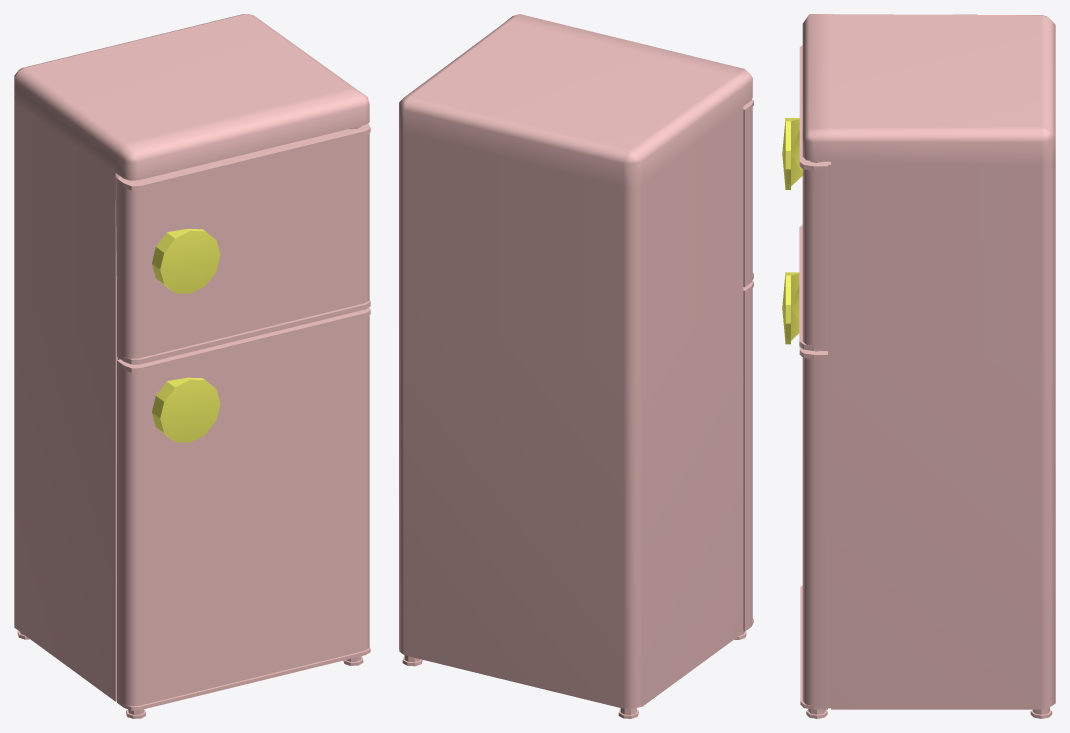
The model's file is MD_fridge_251231.fbx.
3 views of the same model, side by side, from view 1: azimuth 30°, elevation 25°; view 2: azimuth 150°, elevation 25°; view 3: azimuth 270°, elevation 25° (orthographic). The views are drawn at different scales.
Parts seen in each view (by area): view 1: polySurface20, pCylinder49, pCylinder50; view 2: polySurface20; view 3: polySurface20, pCylinder50, pCylinder49.
Boxes of the visible parts, bbox=[...] form: polySurface20: bbox=[14, 14, 370, 710]; pCylinder49: bbox=[152, 377, 220, 442]; pCylinder50: bbox=[152, 228, 220, 293]; polySurface20: bbox=[399, 14, 753, 708]; polySurface20: bbox=[799, 14, 1055, 709]; pCylinder50: bbox=[782, 118, 802, 189]; pCylinder49: bbox=[782, 272, 799, 344].
Size of the model in its own units: 121 by 269 by 113.
